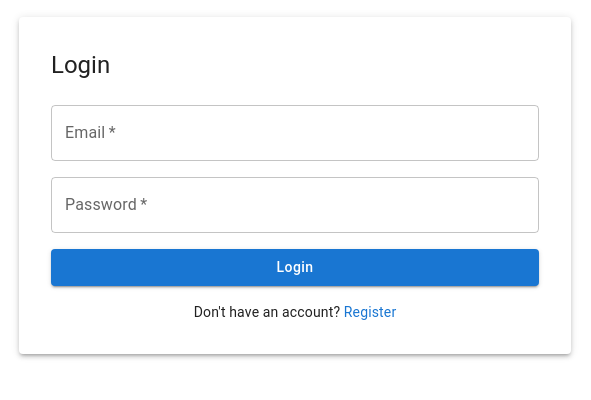
it: Login Component › shows error on failed login
In the field labelled "Email *": (295, 133) 51,105 -> 539,161, type "wrong@example.com"
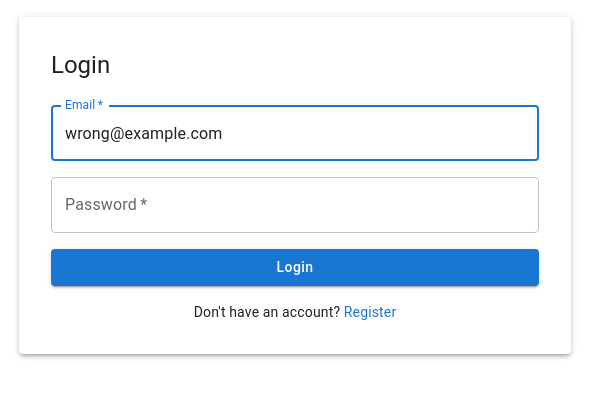
In the password field labelled "Password *": (295, 205) 51,177 -> 539,233, type "wrongpass"
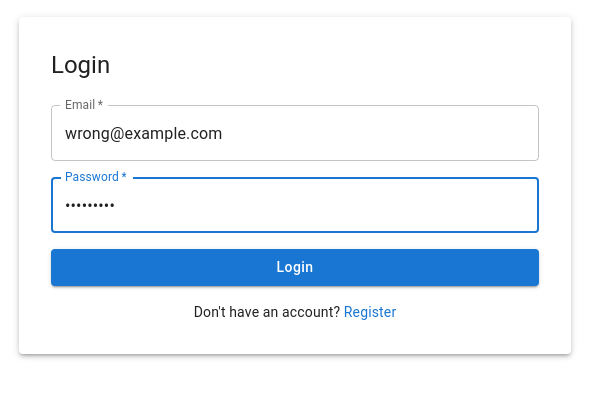
Click the button "Login": (295, 268) 51,249 -> 539,286
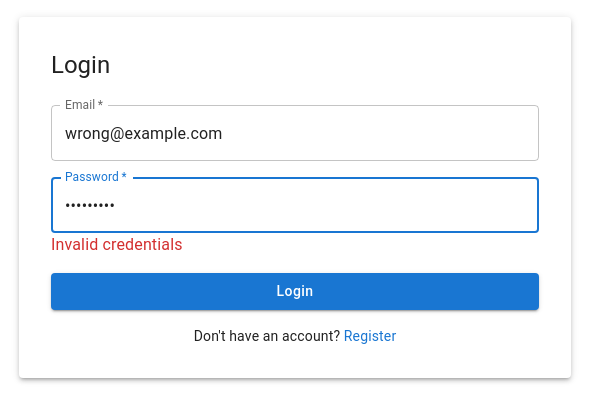
Result: the text "Invalid credentials" is shown at 51,235 -> 183,254
